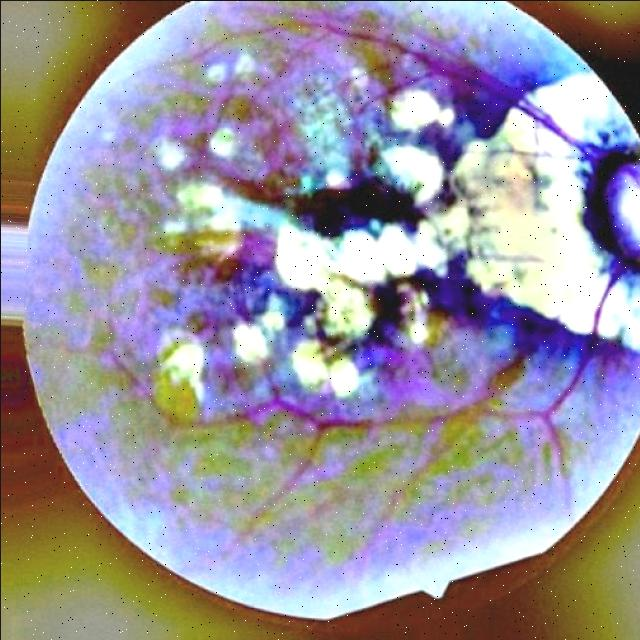Nerves: (149, 20, 640, 505)
Optic Disk: (433, 74, 640, 354)
